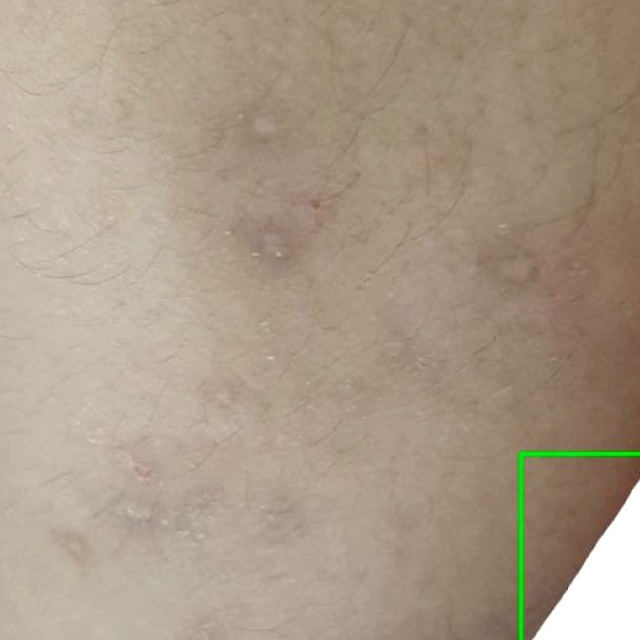Scabies: (521, 453, 639, 639)
